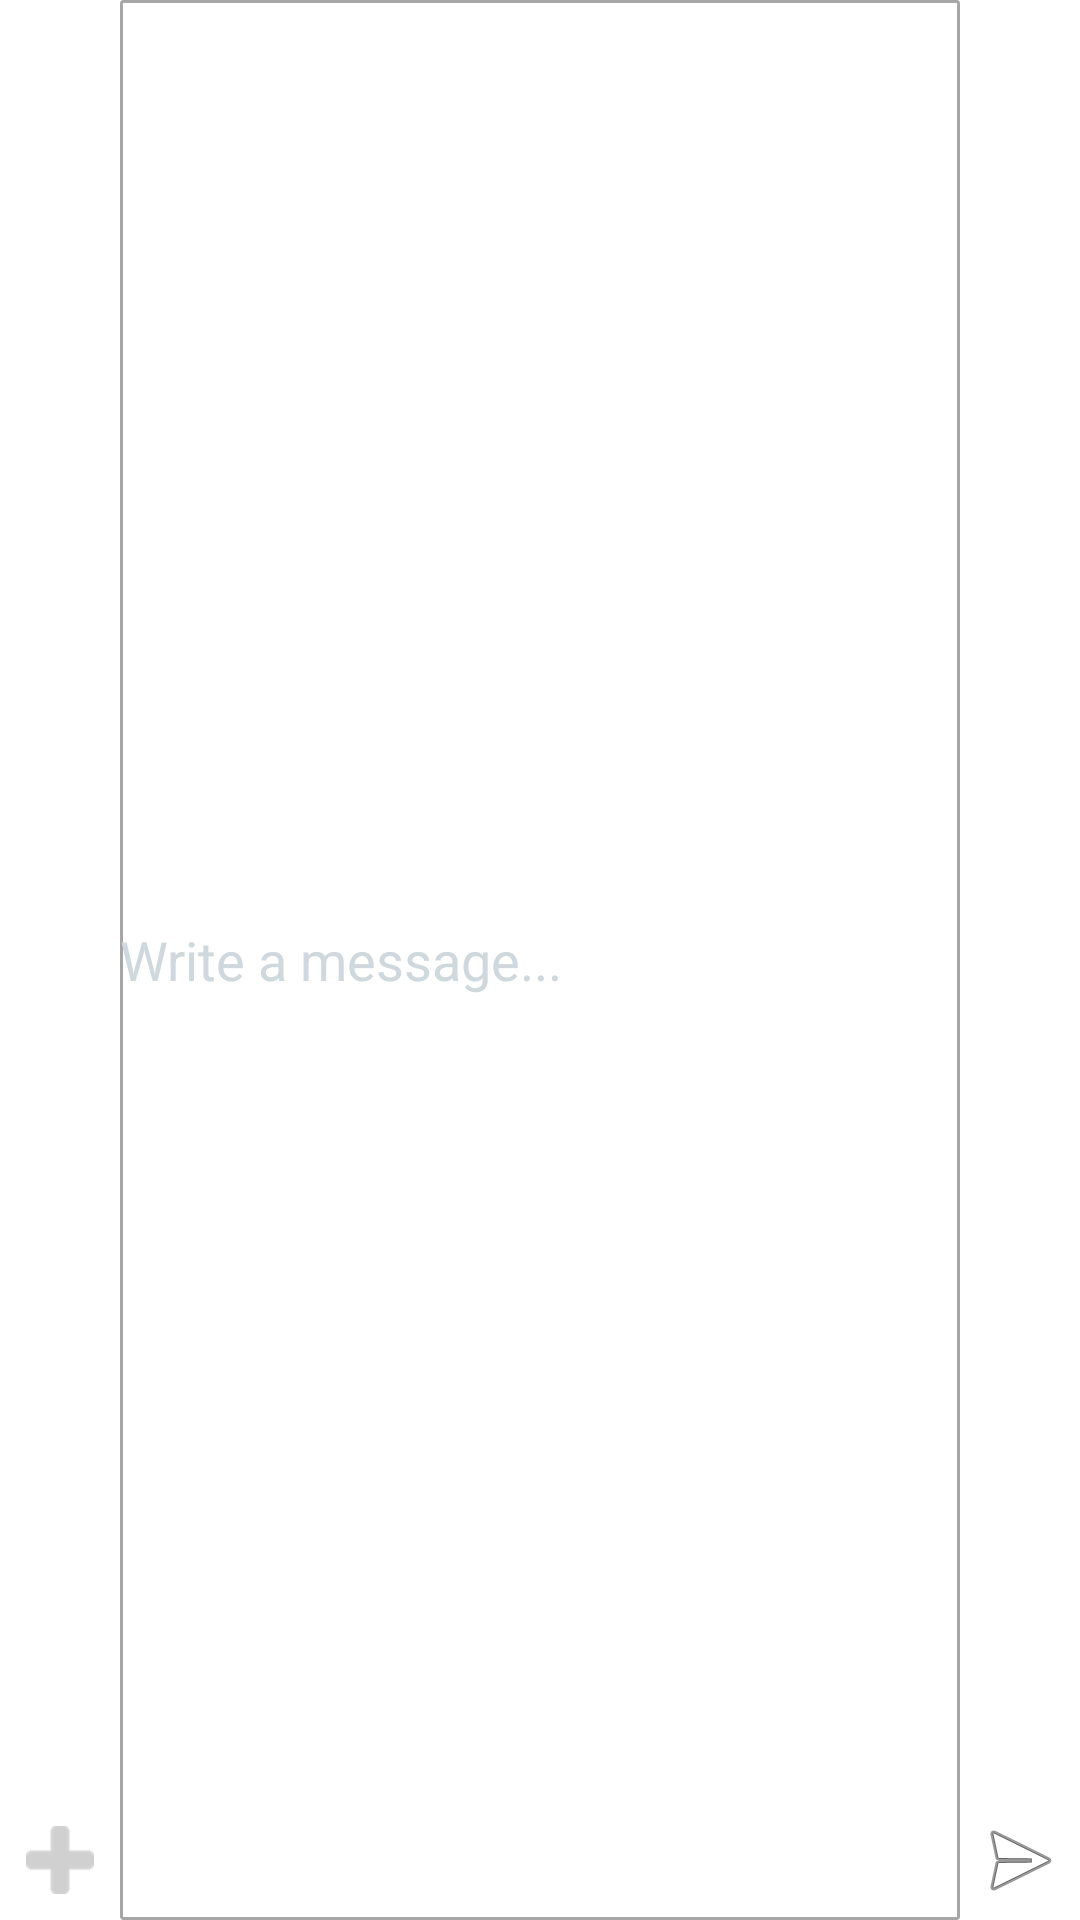

Screen size 1080px×1920px. Icon name, then its box in pixels as (x1=x1, y1=y1, x2=x2, y2=y2):
send: (x1=990, y1=1830, x2=1052, y2=1891)
